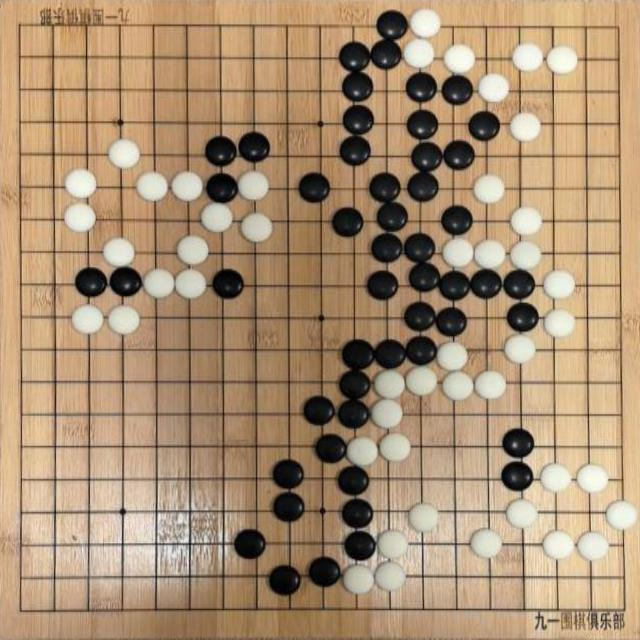blackstone: (212, 268, 245, 300), (109, 266, 143, 297), (74, 267, 108, 298), (341, 339, 375, 370), (206, 172, 238, 204), (298, 172, 331, 203), (233, 529, 266, 560), (238, 131, 271, 162), (344, 530, 377, 561), (404, 301, 437, 332), (374, 339, 407, 370), (408, 262, 441, 293), (338, 41, 371, 72), (506, 302, 540, 332), (370, 38, 402, 69), (406, 109, 438, 140), (501, 461, 534, 491), (502, 428, 535, 458), (468, 111, 501, 141), (341, 499, 374, 529), (438, 271, 471, 301), (332, 208, 364, 238), (303, 396, 335, 426), (273, 492, 305, 522), (314, 434, 346, 464), (272, 459, 304, 489), (309, 557, 341, 587), (205, 136, 237, 166), (338, 466, 370, 496), (338, 399, 370, 429), (435, 307, 467, 337), (442, 205, 474, 235), (442, 75, 474, 105), (371, 233, 403, 263), (406, 72, 438, 102), (342, 105, 374, 135), (470, 269, 502, 299), (406, 336, 438, 366), (376, 200, 408, 230), (342, 72, 374, 102), (339, 370, 371, 400), (369, 172, 401, 202), (411, 142, 443, 172), (376, 10, 408, 40), (503, 270, 536, 299), (340, 136, 371, 166), (269, 566, 300, 596), (408, 172, 439, 202), (367, 271, 399, 300), (444, 140, 475, 169), (404, 234, 435, 262)
whitestone: (64, 168, 98, 200), (71, 304, 104, 336), (542, 530, 575, 561), (103, 237, 136, 268), (200, 202, 233, 233), (136, 171, 169, 202), (177, 235, 210, 266), (346, 437, 379, 468), (371, 398, 404, 429), (373, 369, 406, 400), (605, 501, 639, 531), (64, 202, 96, 233), (238, 170, 270, 201), (403, 38, 435, 69), (143, 269, 176, 299), (240, 213, 273, 243), (504, 334, 537, 364), (470, 528, 503, 558), (543, 309, 576, 339), (379, 432, 412, 462), (509, 112, 542, 142), (171, 171, 204, 201), (543, 270, 576, 300), (436, 341, 469, 371), (546, 44, 579, 74), (443, 237, 474, 268), (108, 305, 140, 335), (175, 269, 207, 299), (442, 371, 474, 401), (577, 531, 609, 561), (343, 564, 375, 594), (576, 464, 608, 494), (540, 463, 572, 493), (406, 366, 438, 396), (108, 139, 140, 169), (473, 174, 505, 204), (474, 240, 506, 270), (510, 240, 542, 270), (512, 42, 544, 72), (444, 44, 476, 74), (510, 207, 543, 236), (374, 562, 405, 592), (410, 8, 441, 38), (474, 371, 506, 400), (506, 499, 538, 528), (478, 74, 510, 102), (409, 503, 439, 532), (377, 530, 407, 559)
